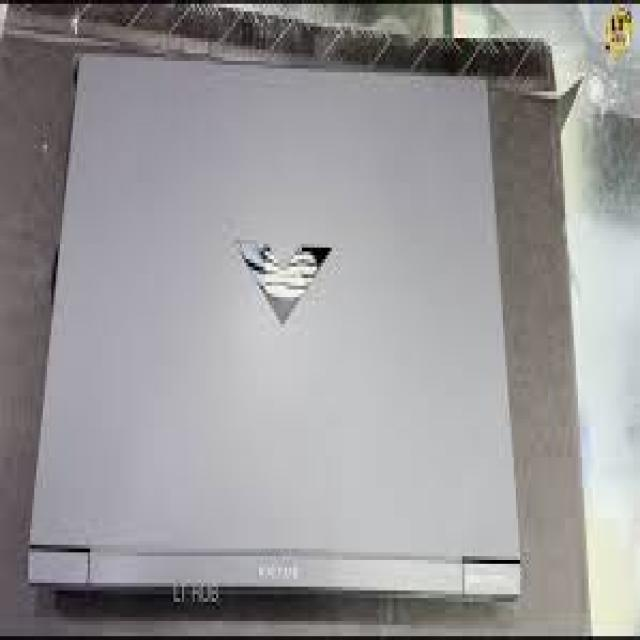laptop: (27, 47, 525, 601)
